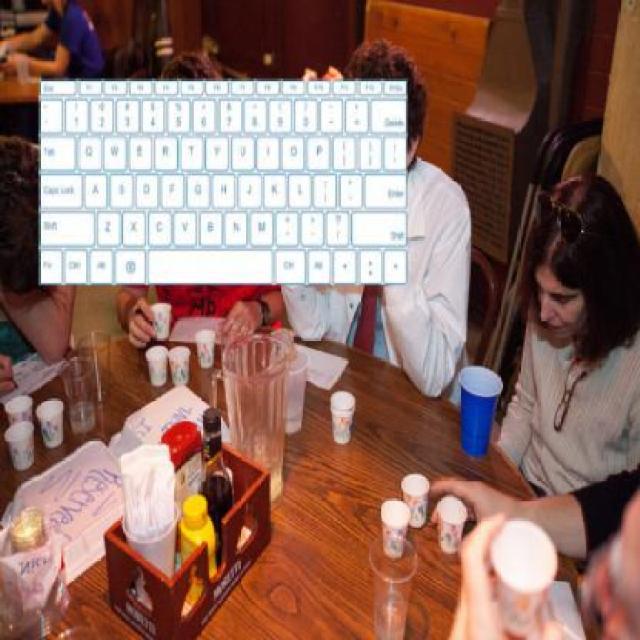keyboard: (39, 83, 414, 287)
